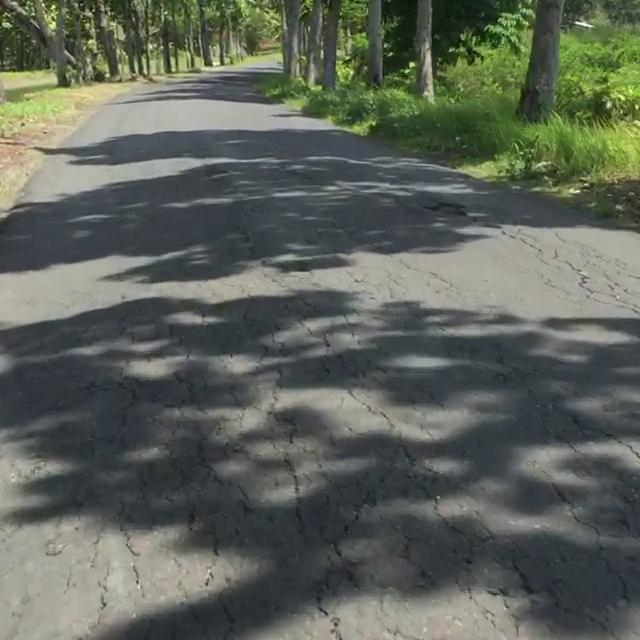retak_kulit_buaya: (57, 315, 458, 640), (555, 474, 640, 629)
